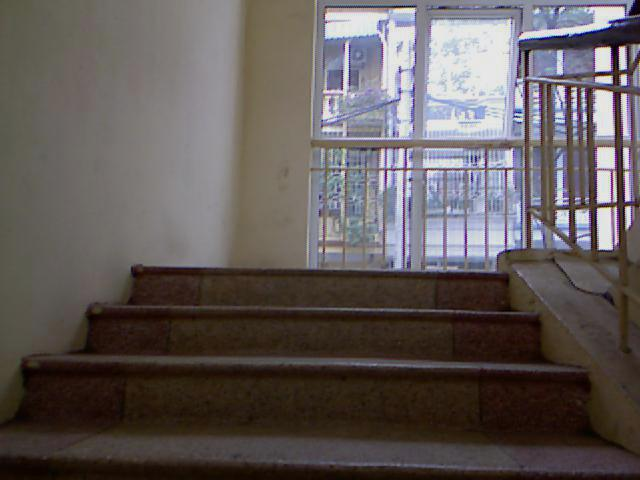Escaleras: (4, 266, 632, 471)
